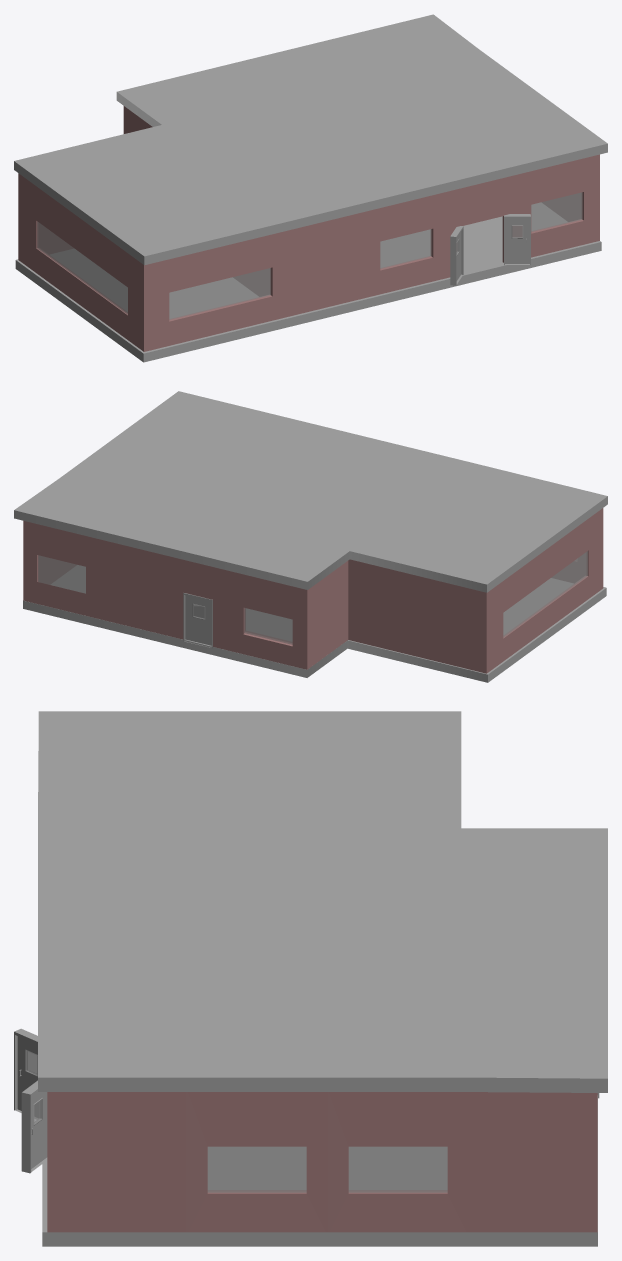
Rendered from building.fbx.
The picture shows the model from 3 angles, top to bottom: view 1: azimuth 30°, elevation 25°; view 2: azimuth 150°, elevation 25°; view 3: azimuth 270°, elevation 25°; orthographic projection. The views are drawn at different scales.
Visible parts, largest first — view 1: pCube11, polySurface3, pCube10, polySurface343, pCube19, pCube18; view 2: pCube11, polySurface3, pCube10, polySurface343, pCube20; view 3: pCube11, polySurface3, pCube10, polySurface343, pCube19, pCube18.
Boxes of the visible parts, left/top/right/bottom form: pCube11: left=14, top=14, right=607, bottom=265; polySurface3: left=18, top=106, right=599, bottom=351; pCube10: left=15, top=203, right=601, bottom=362; polySurface343: left=37, top=192, right=582, bottom=319; pCube19: left=504, top=214, right=530, bottom=265; pCube18: left=450, top=226, right=463, bottom=285; pCube11: left=14, top=391, right=607, bottom=592; polySurface3: left=23, top=508, right=603, bottom=673; pCube10: left=23, top=565, right=606, bottom=682; polySurface343: left=38, top=551, right=587, bottom=644; pCube20: left=183, top=593, right=212, bottom=648; pCube11: left=38, top=711, right=607, bottom=1092; polySurface3: left=47, top=1092, right=597, bottom=1232; pCube10: left=42, top=1095, right=597, bottom=1246; polySurface343: left=26, top=1051, right=447, bottom=1192; pCube19: left=21, top=1080, right=47, bottom=1173; pCube18: left=14, top=1028, right=38, bottom=1119.
Size of the model in its own units: 11.69 by 2.57 by 7.99.
